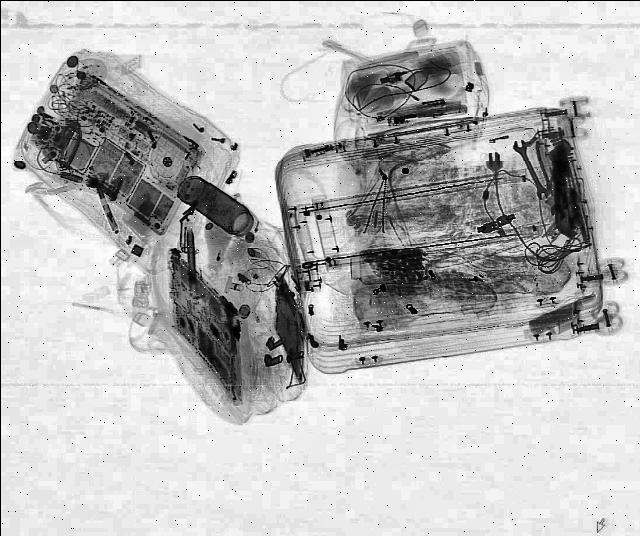Wrench: (508, 138, 552, 200)
